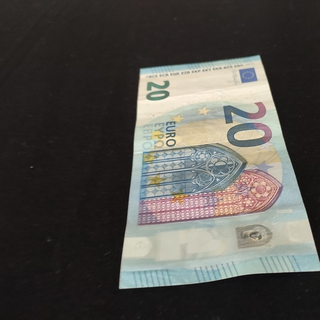20EUROFront: (118, 54, 320, 292)
